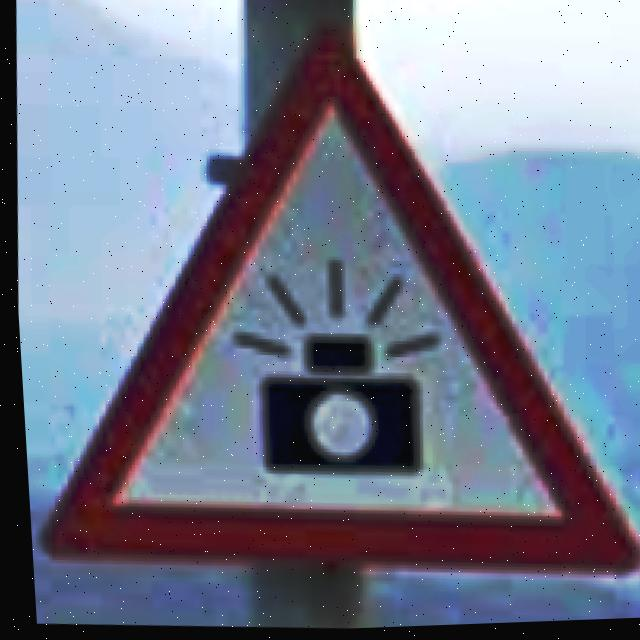speedcamera: (43, 29, 630, 572)
